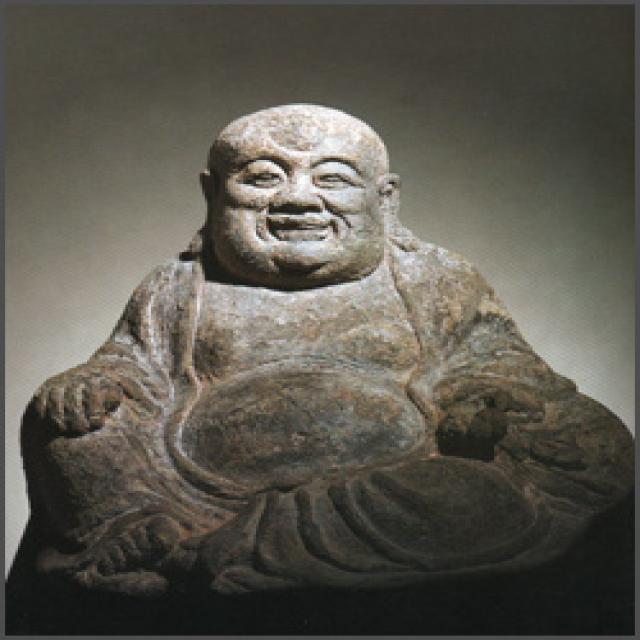Smiling Buddha: (160, 97, 430, 466)
